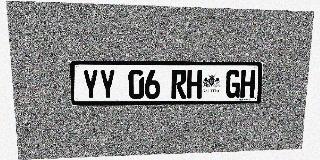0: (128, 69, 144, 99)
6: (145, 69, 160, 99)
G: (225, 70, 241, 98)
H: (187, 70, 202, 98), (240, 70, 255, 98)
R: (171, 70, 187, 99)
Y: (82, 69, 99, 100), (99, 69, 116, 99)
